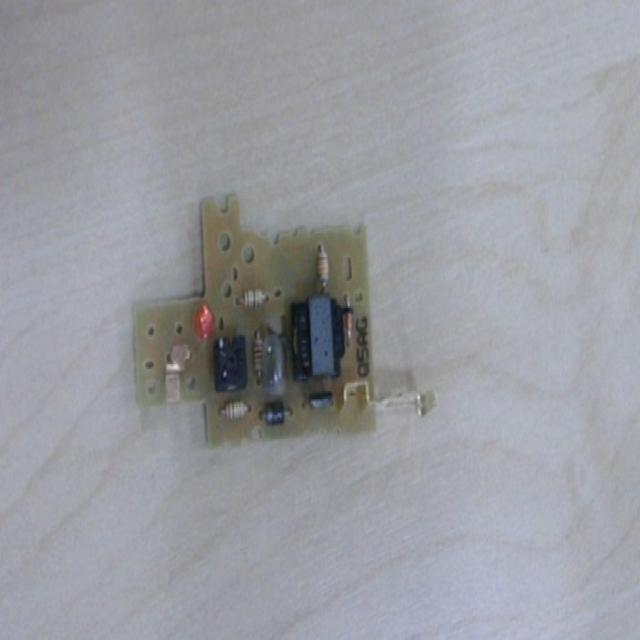019: (213, 333, 249, 394)
223: (266, 333, 287, 397)
DIODE: (258, 399, 294, 426)
LED: (193, 303, 216, 343)
R1: (235, 288, 270, 308)
R2: (251, 328, 265, 386)
R3: (217, 398, 252, 420)
R4: (315, 242, 330, 294)
TCE: (292, 295, 346, 385)
TRANSISTOR: (299, 390, 336, 411)
